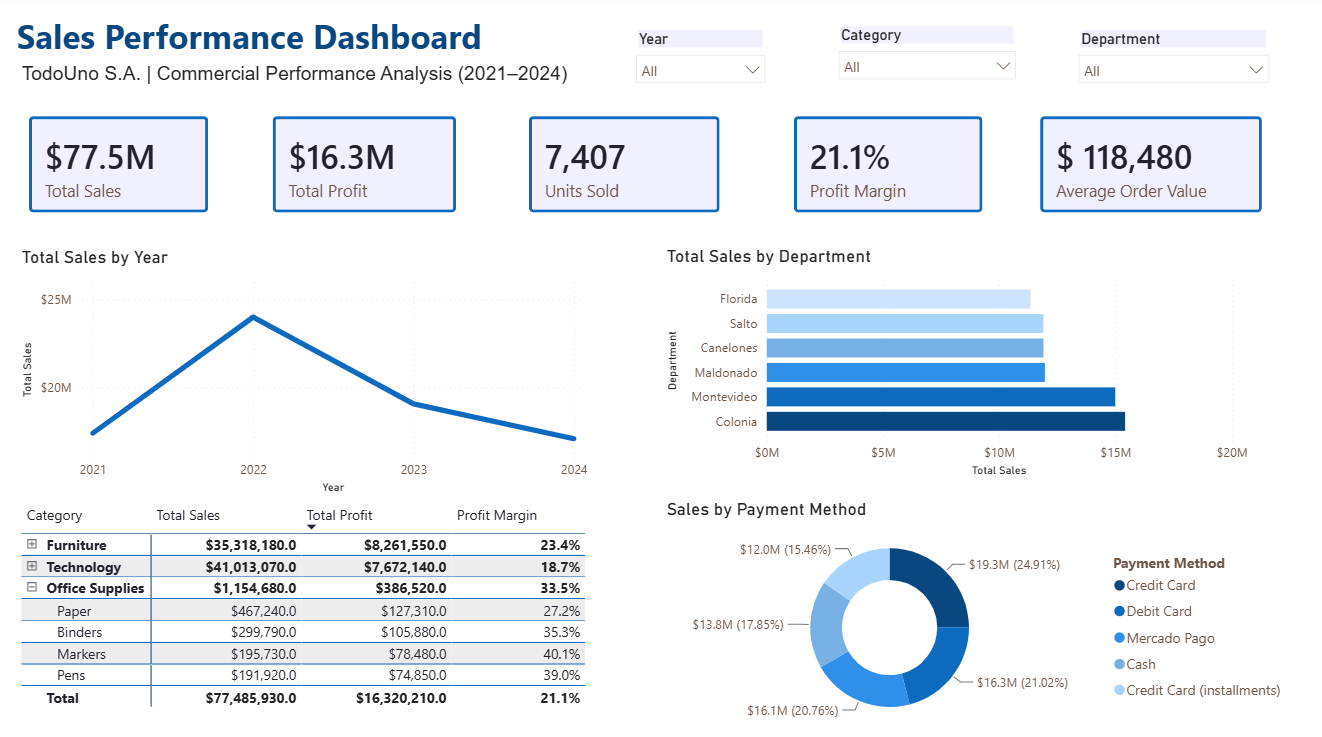

The dashboard page shown, as its layout file describes it:
{"tool":"powerbi","page":{"name":"Dashboard Ejecutivo","canvas":[1280,720],"ordinal":0},"visuals":[{"type":"cardVisual","fields":{"Data":["fact_ventas.Venta Total"]},"box":[12.2,100,207.8,127.8],"z":0},{"type":"cardVisual","fields":{"Data":["fact_ventas.Ganancia Total"]},"box":[247.8,100,211.1,127.8],"z":1000},{"type":"cardVisual","fields":{"Data":["fact_ventas.Unidades Vendidas"]},"box":[494.4,100,218.9,127.8],"z":2000},{"type":"cardVisual","fields":{"Data":["fact_ventas.Margen %"]},"box":[750,100,216.7,127.8],"z":3000},{"type":"cardVisual","fields":{"Data":["fact_ventas.Ticket Promedio"]},"box":[987.8,100,248.9,127.8],"z":4000},{"type":"textbox","box":[12.2,13.3,497.8,55.6],"z":5000},{"type":"lineChart","title":"Total Sales by Year","fields":{"Y":["fact_ventas.Venta Total"],"Category":["dim_fecha.Año"]},"box":[16.9,242.5,556.2,243.7],"z":6000},{"type":"clusteredBarChart","title":"Total Sales by Department","fields":{"Category":["dim_geografia.Departamento"],"Y":["fact_ventas.Venta Total"]},"box":[640,241.7,571.7,228.3],"z":7000},{"type":"pivotTable","fields":{"Rows":["dim_producto.Categoria","dim_producto.Subcategoria"],"Values":["fact_ventas.Venta Total","fact_ventas.Ganancia Total","fact_ventas.Margen %"]},"box":[16.9,486.2,556.2,208.7],"z":8000},{"type":"donutChart","title":"Sales by Payment Method","fields":{"Category":["DimPaymentMethod.Payment Method"],"Y":["FactSales.Total Sales"]},"box":[640,486.7,611.7,228.3],"z":9000},{"type":"slicer","fields":{"Values":["dim_fecha.Año"]},"box":[604.1,29.3,145.5,66],"z":10000},{"type":"slicer","fields":{"Values":["dim_geografia.Departamento"]},"box":[1032.1,29.3,204.2,62.4],"z":11000},{"type":"slicer","fields":{"Values":["dim_producto.Categoria"]},"box":[799.7,25.7,192,86.8],"z":12000},{"type":"textbox","box":[16.9,60.3,556.2,39.8],"z":13000}]}

Visuals, with their boxes in screenshot pixels (x1, y1, x2, y2), scaled from the page's 1280x720 canvas onto the 1322x737 screenshot:
cardVisual - fact_ventas.Venta Total: {"x1": 13, "y1": 102, "x2": 227, "y2": 233}
cardVisual - fact_ventas.Ganancia Total: {"x1": 256, "y1": 102, "x2": 474, "y2": 233}
cardVisual - fact_ventas.Unidades Vendidas: {"x1": 511, "y1": 102, "x2": 737, "y2": 233}
cardVisual - fact_ventas.Margen %: {"x1": 775, "y1": 102, "x2": 998, "y2": 233}
cardVisual - fact_ventas.Ticket Promedio: {"x1": 1020, "y1": 102, "x2": 1277, "y2": 233}
textbox: {"x1": 13, "y1": 14, "x2": 527, "y2": 71}
"Total Sales by Year" lineChart: {"x1": 17, "y1": 248, "x2": 592, "y2": 498}
"Total Sales by Department" clusteredBarChart: {"x1": 661, "y1": 247, "x2": 1251, "y2": 481}
pivotTable - dim_producto.Categoria x dim_producto.Subcategoria: {"x1": 17, "y1": 498, "x2": 592, "y2": 711}
"Sales by Payment Method" donutChart: {"x1": 661, "y1": 498, "x2": 1293, "y2": 732}
slicer - dim_fecha.Año: {"x1": 624, "y1": 30, "x2": 774, "y2": 98}
slicer - dim_geografia.Departamento: {"x1": 1066, "y1": 30, "x2": 1277, "y2": 94}
slicer - dim_producto.Categoria: {"x1": 826, "y1": 26, "x2": 1024, "y2": 115}
textbox: {"x1": 17, "y1": 62, "x2": 592, "y2": 102}
